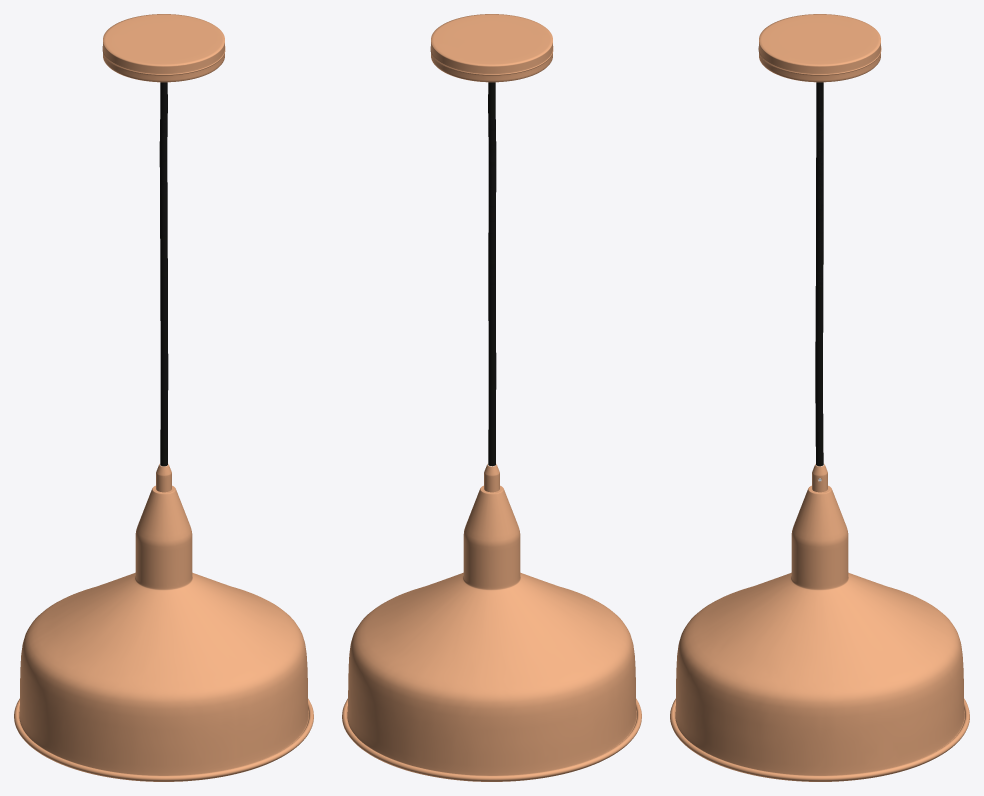
The model's file is abo-B07374M9ZW.glb.
The picture shows the model from 3 angles, left to right: view 1: azimuth 30°, elevation 25°; view 2: azimuth 150°, elevation 25°; view 3: azimuth 270°, elevation 25°; orthographic projection.
Size of the model in its own units: 0.301 by 0.754 by 0.301.
1 material, 1 textured.
